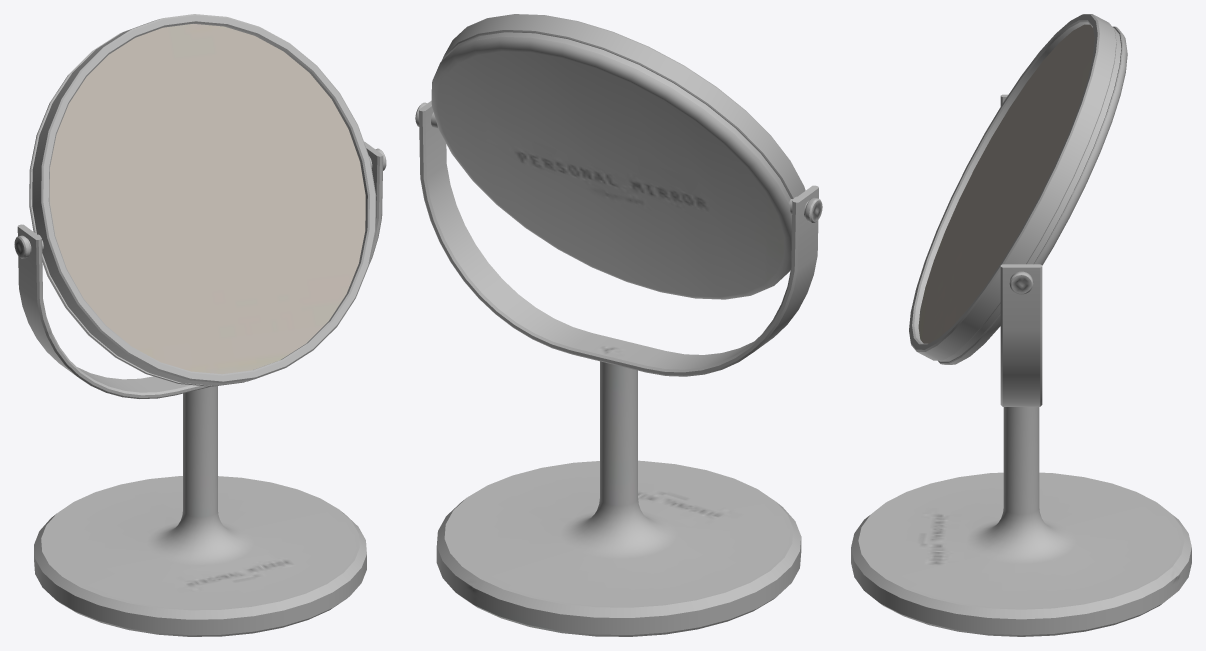
Rendered from table-mirror-2.glb.
3 views of the same model, side by side, from view 1: azimuth 30°, elevation 25°; view 2: azimuth 150°, elevation 25°; view 3: azimuth 270°, elevation 25° (orthographic). The views are drawn at different scales.
Parts seen in each view (by area): view 1: Table_mirror__0; view 2: Table_mirror__0; view 3: Table_mirror__0.
Part boxes in pixels (x1,y1,x2,y2): Table_mirror__0: (14, 14, 386, 636); Table_mirror__0: (415, 14, 822, 636); Table_mirror__0: (851, 14, 1191, 636).
Bounding box in the file's own units: 0.2177 × 0.3 × 0.1739.
1 material, 1 textured.
